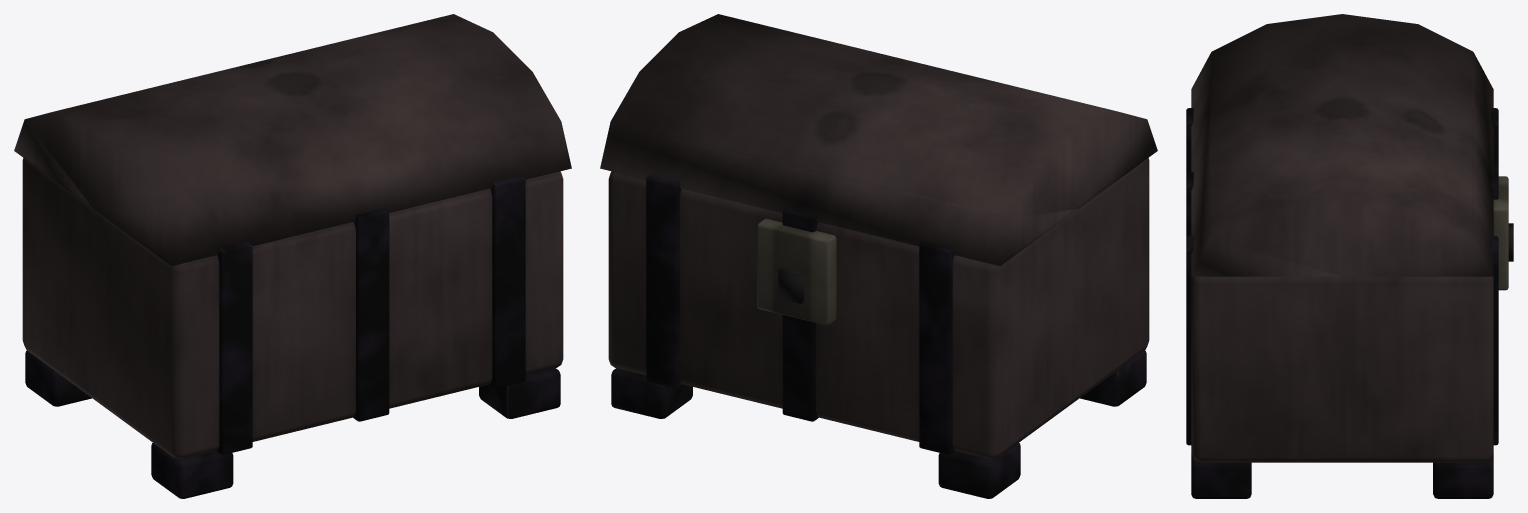
File: rook_coffer.obj
3 views of the same model, side by side, from view 1: azimuth 30°, elevation 25°; view 2: azimuth 150°, elevation 25°; view 3: azimuth 270°, elevation 25° (orthographic). The views are drawn at different scales.
Visible parts, largest first — view 1: part0, part1; view 2: part0, part1, part2, part3; view 3: part0, part1, part2.
Boxes of the visible parts, x1,y1,x2,y2 form: part0: (14,14,571,458); part1: (25,175,560,498); part0: (600,14,1157,458); part1: (611,175,1146,498); part2: (757,218,836,325); part3: (778,268,803,303); part0: (1191,14,1493,462); part1: (1186,108,1498,498); part2: (1493,176,1508,290).
Size of the model in its own units: 0.88 by 0.665 by 0.65.
